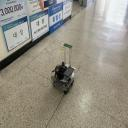cart: (50, 62, 76, 95)
